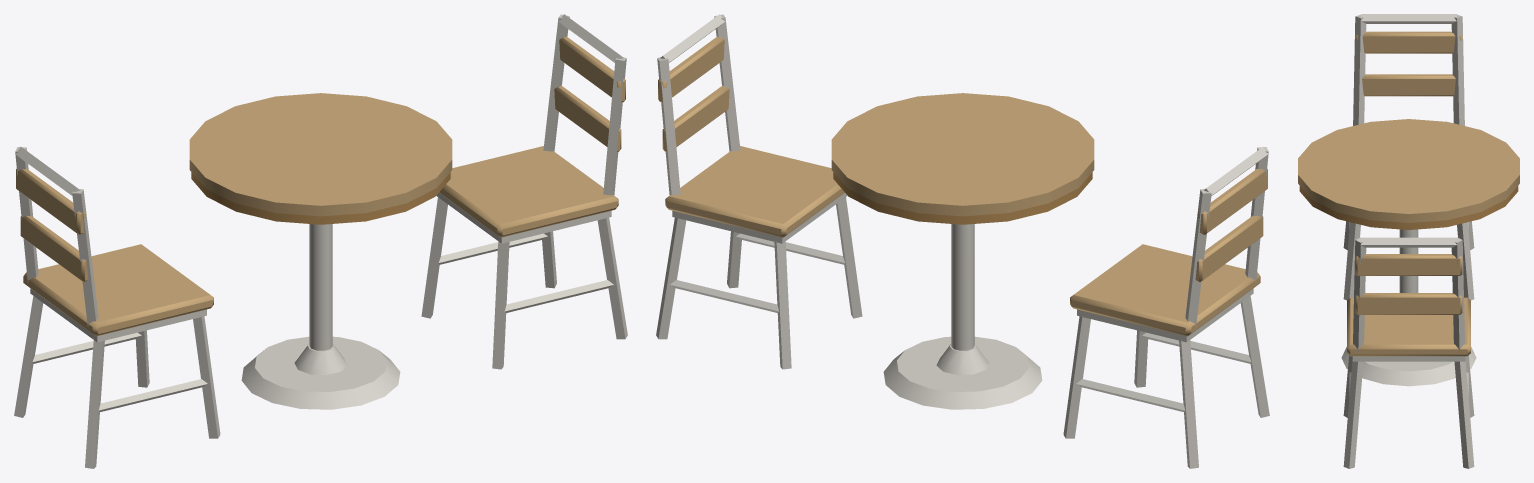
File: cafe_table_set.glb
3 renders of one model, left to right at view 1: azimuth 30°, elevation 25°; view 2: azimuth 150°, elevation 25°; view 3: azimuth 270°, elevation 25°, orthographic. The views are drawn at different scales.
Visible parts, largest first — view 1: body; view 2: body; view 3: body.
Boxes of the visible parts, left/top/right/bottom form: body: left=14, top=14, right=627, bottom=468; body: left=656, top=14, right=1269, bottom=468; body: left=1298, top=14, right=1519, bottom=468.
Bounding box in the file's own units: 1.92 × 0.9122 × 0.7878.
